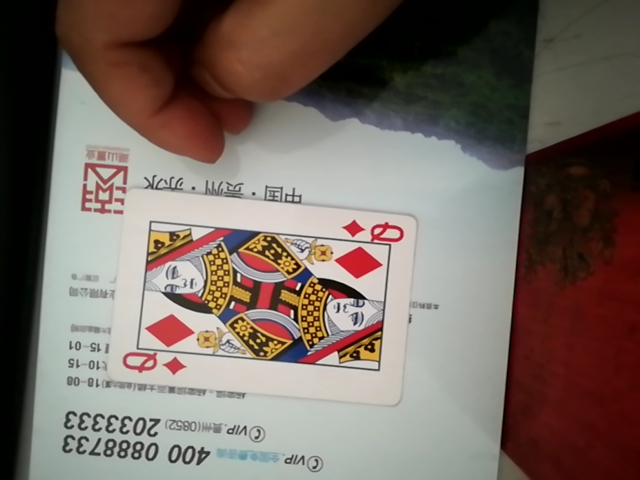fk q: (110, 192, 417, 403)
